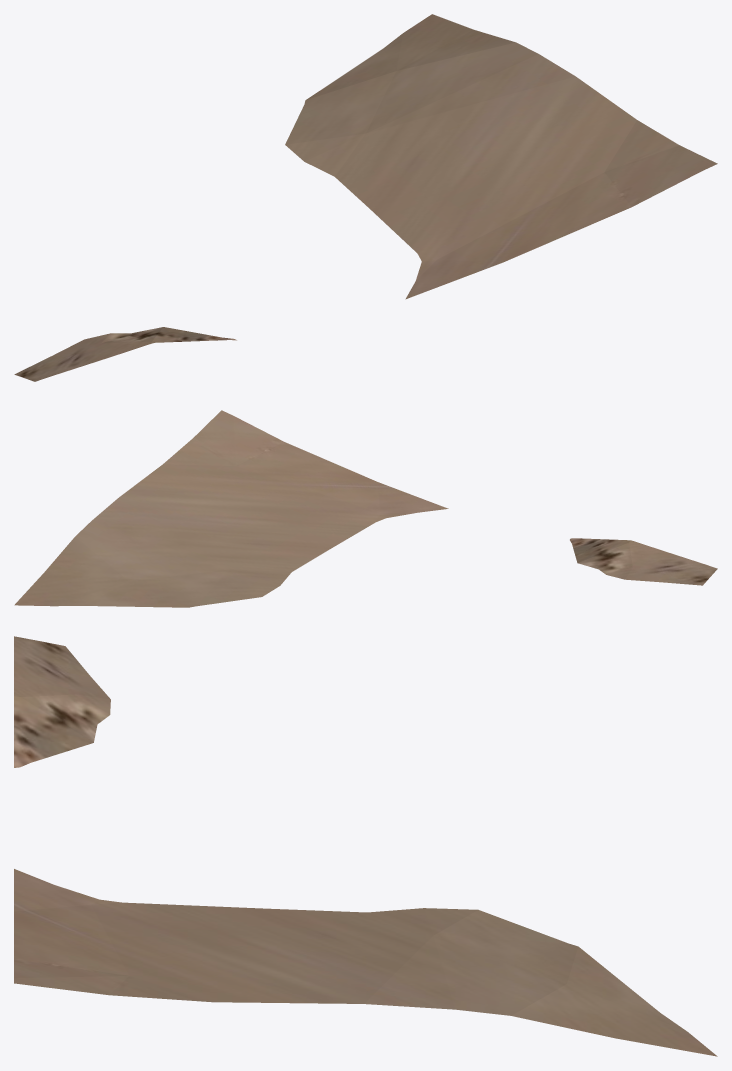
The picture shows the model from 3 angles, top to bottom: view 1: azimuth 30°, elevation 25°; view 2: azimuth 150°, elevation 25°; view 3: azimuth 270°, elevation 25°; orthographic projection. The views are drawn at different scales.
Bounding box in the file's own units: 1.04 × 0.0869 × 0.7569.
Materials: 1 (1 with a texture image).
